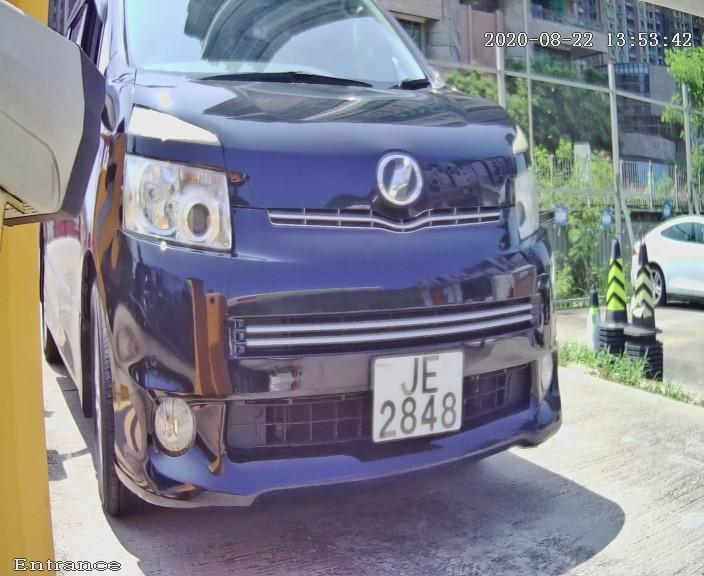License Plate: (359, 340, 472, 453)
